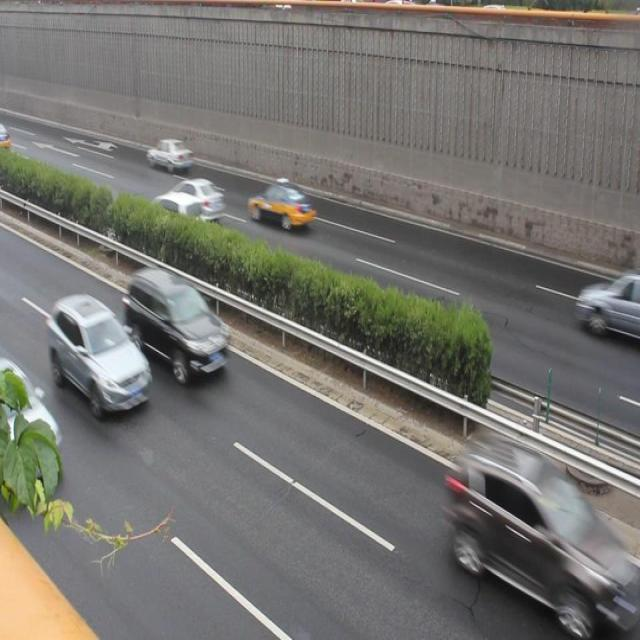car: (450, 434, 614, 620), (46, 296, 153, 416), (125, 271, 228, 377), (1, 360, 62, 503), (248, 180, 315, 232), (137, 191, 202, 239), (167, 176, 226, 220), (147, 137, 192, 175)
truck: (575, 268, 640, 344)
